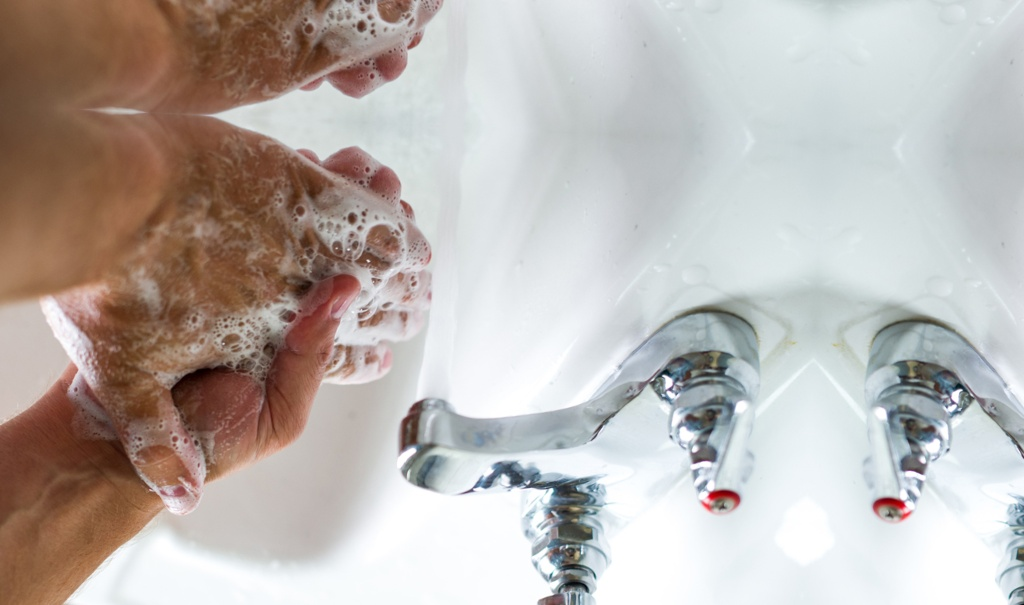washing hand: (0, 122, 648, 604)
